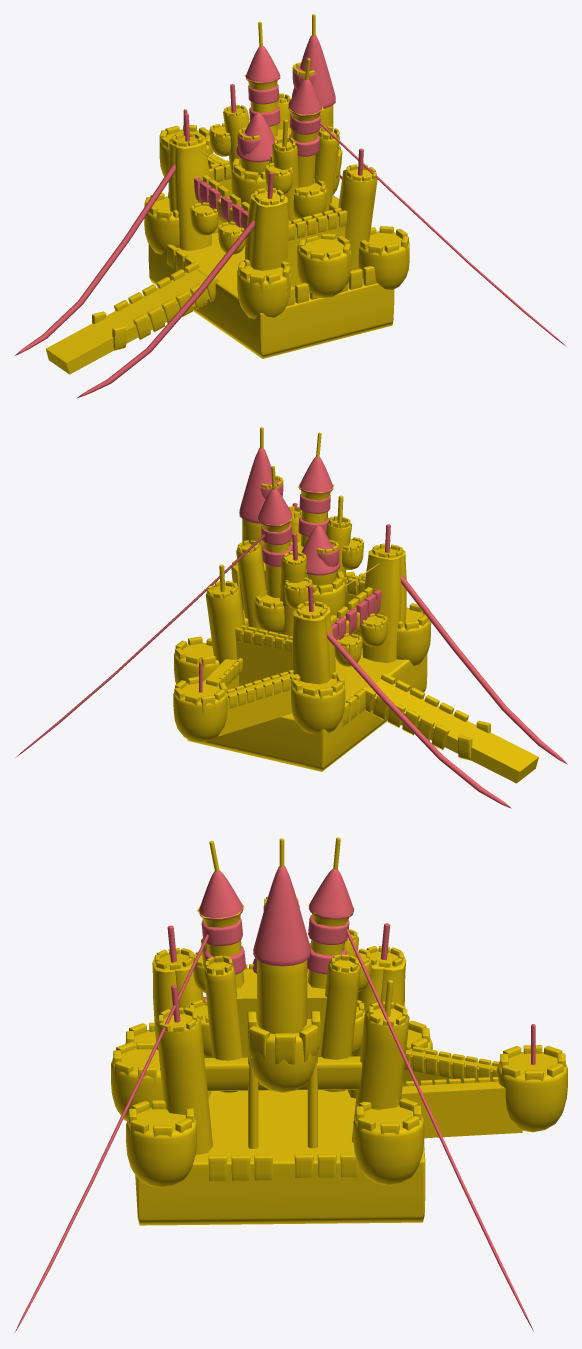
The model's file is CastleHUBcorrect.fbx.
3 views of the same model, one above another, from view 1: azimuth 30°, elevation 25°; view 2: azimuth 150°, elevation 25°; view 3: azimuth 270°, elevation 25° (orthographic). The views are drawn at different scales.
Parts seen in each view (by area): view 1: polySurface3206, polySurface3074, polySurface3049, polySurface3107, polySurface2969, polySurface3005, polySurface3185, polySurface2997, polySurface3104, polySurface3075, polySurface2998, polySurface3163 (+15 smaller); view 2: polySurface3206, polySurface3074, polySurface3107, polySurface3049, polySurface3010, polySurface2998, polySurface3184, polySurface3164, polySurface3008, polySurface3104, polySurface3062, polySurface3075 (+16 smaller); view 3: polySurface3206, polySurface3009, polySurface3005, polySurface3087, polySurface2997, polySurface3184, polySurface3010, polySurface3163, polySurface3162, polySurface3062, polySurface3125, polySurface3061 (+19 smaller).
Part boxes in pixels (x1,y1,x2,y2): polySurface3206: [148, 233, 394, 358]; polySurface3074: [46, 269, 209, 374]; polySurface3049: [168, 135, 211, 250]; polySurface3107: [245, 189, 288, 270]; polySurface2969: [297, 238, 350, 297]; polySurface3005: [338, 167, 377, 270]; polySurface3185: [237, 265, 290, 318]; polySurface2997: [358, 231, 409, 289]; polySurface3104: [76, 219, 254, 398]; polySurface3075: [15, 162, 175, 355]; polySurface2998: [144, 196, 179, 254]; polySurface3163: [292, 35, 335, 108]; polySurface3206: [187, 634, 427, 771]; polySurface3074: [371, 680, 538, 783]; polySurface3107: [362, 546, 406, 663]; polySurface3049: [292, 603, 335, 684]; polySurface3010: [173, 681, 227, 742]; polySurface2998: [291, 678, 345, 733]; polySurface3184: [205, 583, 245, 664]; polySurface3164: [218, 673, 293, 736]; polySurface3008: [236, 631, 293, 686]; polySurface3104: [401, 575, 567, 764]; polySurface3062: [236, 543, 268, 634]; polySurface3075: [327, 631, 511, 808]; polySurface3206: [135, 1089, 425, 1225]; polySurface3009: [401, 1081, 522, 1138]; polySurface3005: [156, 1011, 212, 1154]; polySurface3087: [353, 1105, 424, 1185]; polySurface2997: [126, 1107, 196, 1187]; polySurface3184: [351, 1006, 409, 1142]; polySurface3010: [497, 1052, 567, 1132]; polySurface3163: [253, 865, 310, 966]; polySurface3162: [257, 960, 307, 1033]; polySurface3062: [321, 958, 360, 1092]; polySurface3125: [204, 1056, 362, 1091]; polySurface3061: [204, 961, 242, 1092].
Size of the model in its own units: 1107 by 735 by 932.
